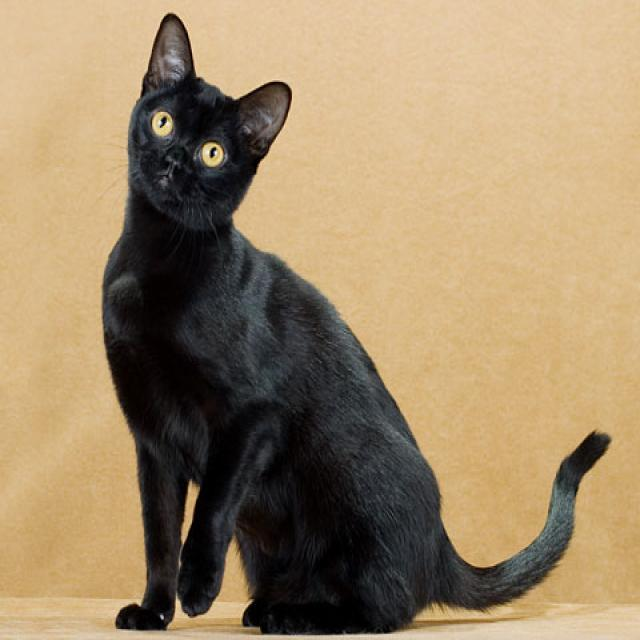Bombay: (127, 11, 291, 213)
